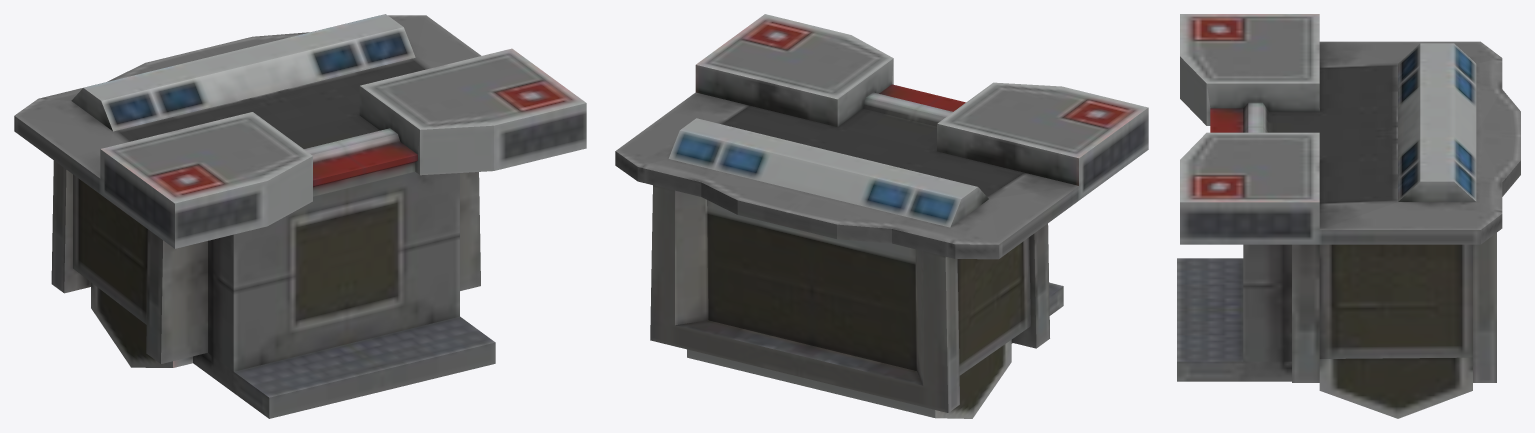
Rendered from Part - Main form 07-CZGDmk3I.glb.
3 renders of one model, left to right at view 1: azimuth 30°, elevation 25°; view 2: azimuth 150°, elevation 25°; view 3: azimuth 270°, elevation 25°, orthographic. The views are drawn at different scales.
Parts seen in each view (by area): view 1: Main_form_07; view 2: Main_form_07; view 3: Main_form_07.
Boxes of the visible parts, x1,y1,x2,y2 form: Main_form_07: (14, 14, 586, 418); Main_form_07: (615, 14, 1148, 418); Main_form_07: (1177, 14, 1520, 418).
Size of the model in its own units: 2.28 by 1.41 by 1.76.
Materials: 1 (1 with a texture image).
